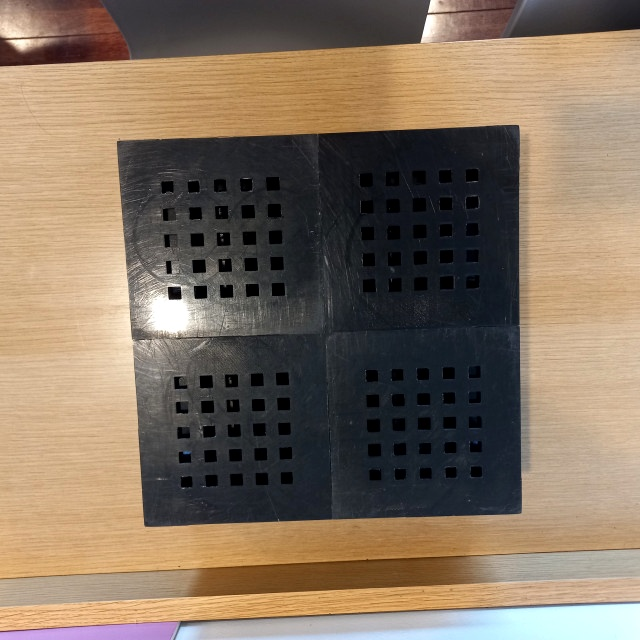pallet: (94, 106, 523, 533)
